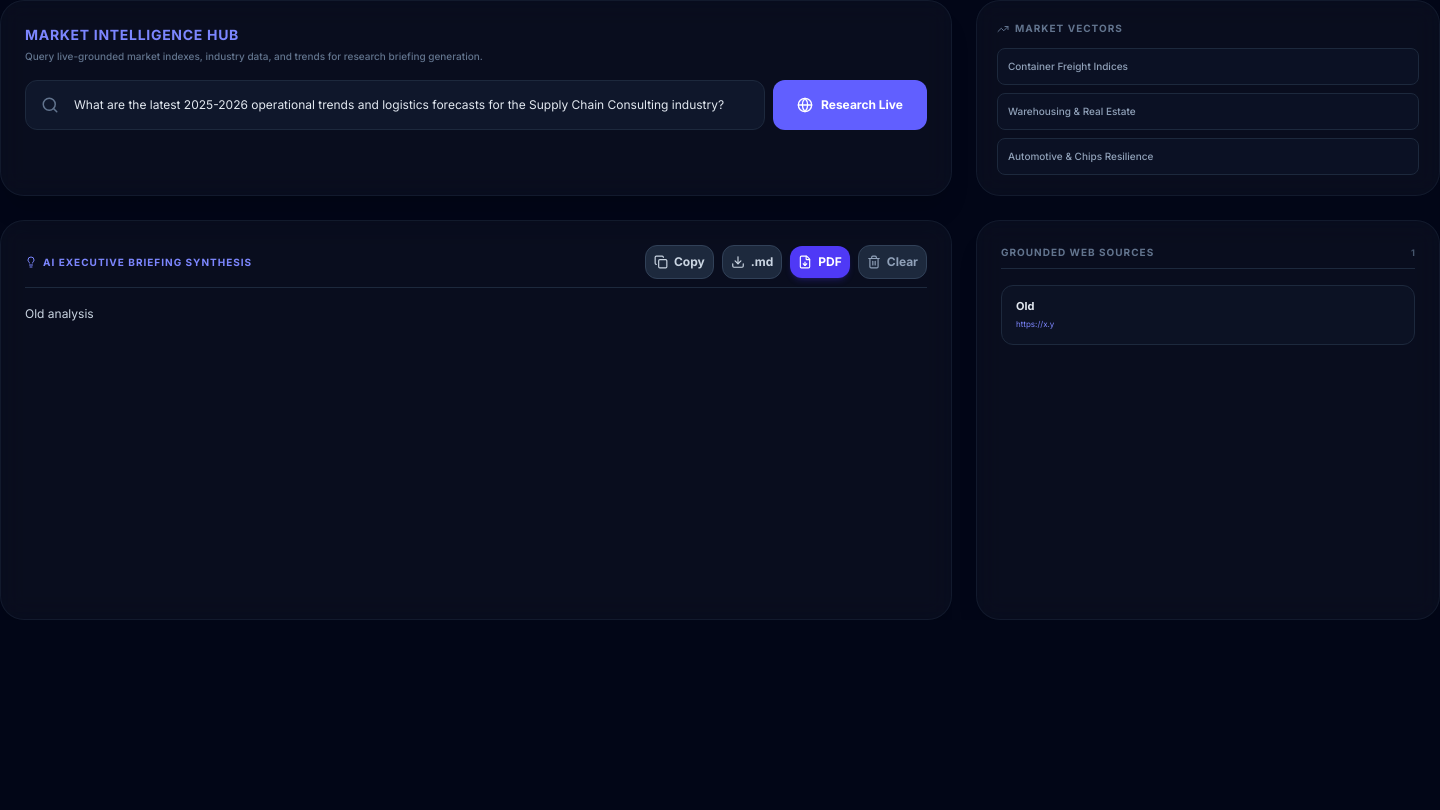
Test: MarketInsights Component › clears the analysis and sources when the Clear button is confirmed
The image size is (1440, 810).
Click the button titled "Clear" at (892, 262), box top-left (858, 245), bottom-right (927, 279)
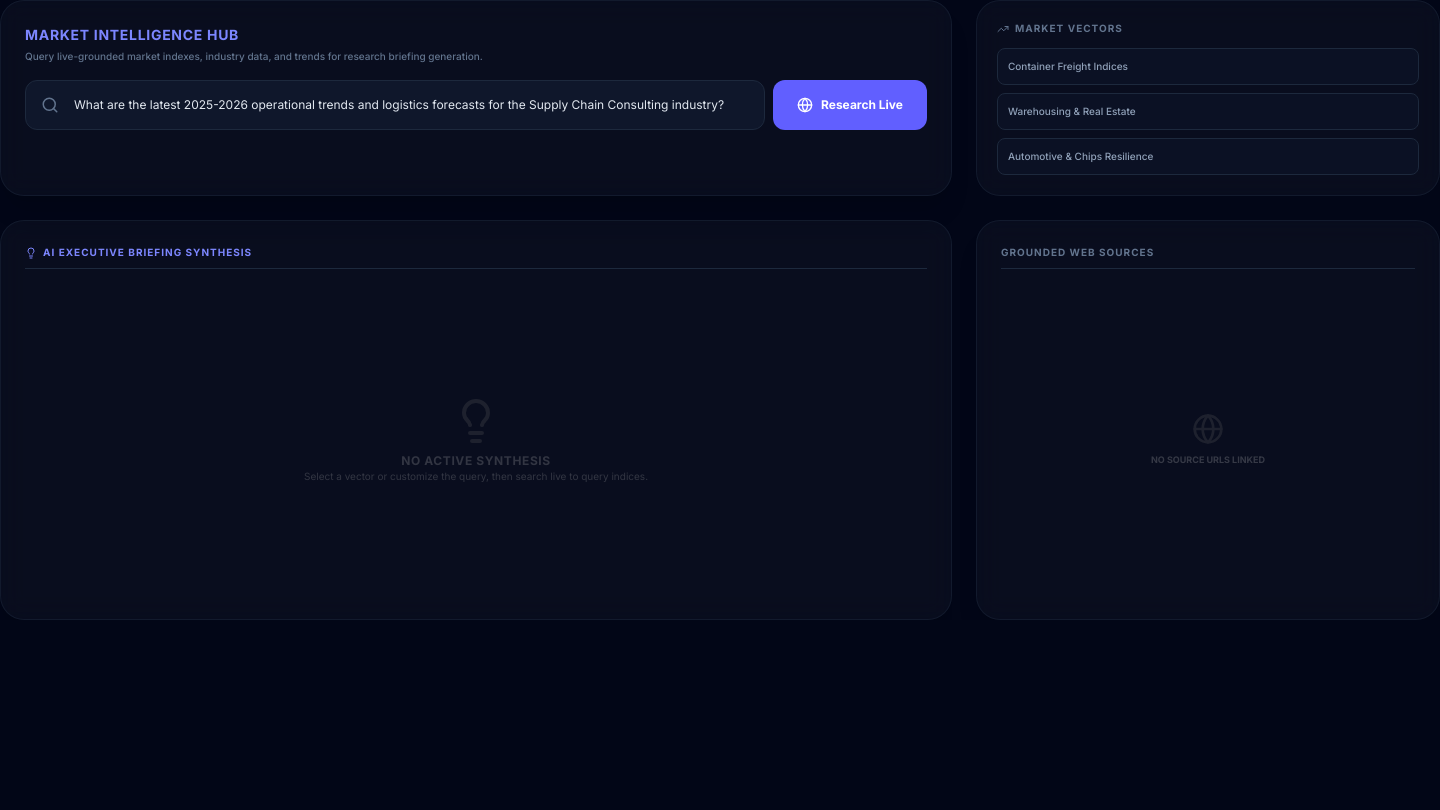
Result: the text "No Active Synthesis" is shown at top-left (401, 452), bottom-right (551, 468)
